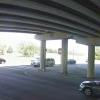Bridge: (4, 7, 98, 50)
